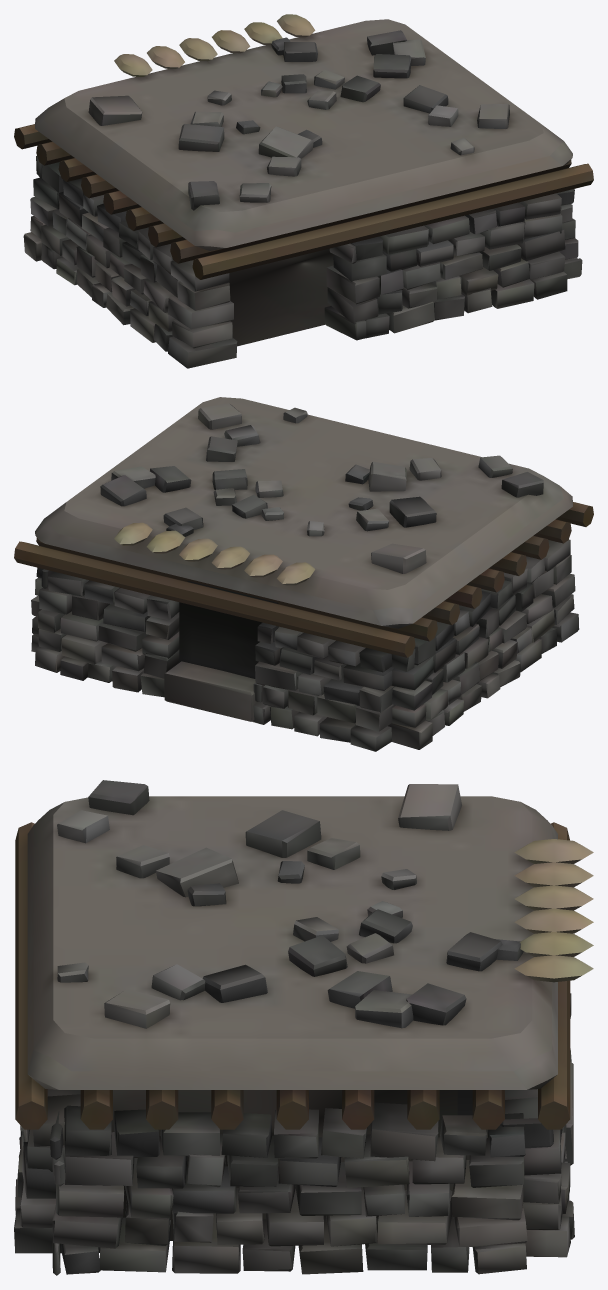
File: bunker_lod1.glb
3 renders of one model, top to bottom at view 1: azimuth 30°, elevation 25°; view 2: azimuth 150°, elevation 25°; view 3: azimuth 270°, elevation 25°, orthographic. The views are drawn at different scales.
Visible parts, largest first — view 1: structure; view 2: structure; view 3: structure.
Boxes of the visible parts, x1=… form: structure: x1=14, y1=14, x2=593, y2=368; structure: x1=14, y1=397, x2=593, y2=751; structure: x1=14, y1=780, x2=593, y2=1275.
Size of the model in its own units: 4.89 by 1.96 by 4.22.
1 material, 1 textured.
